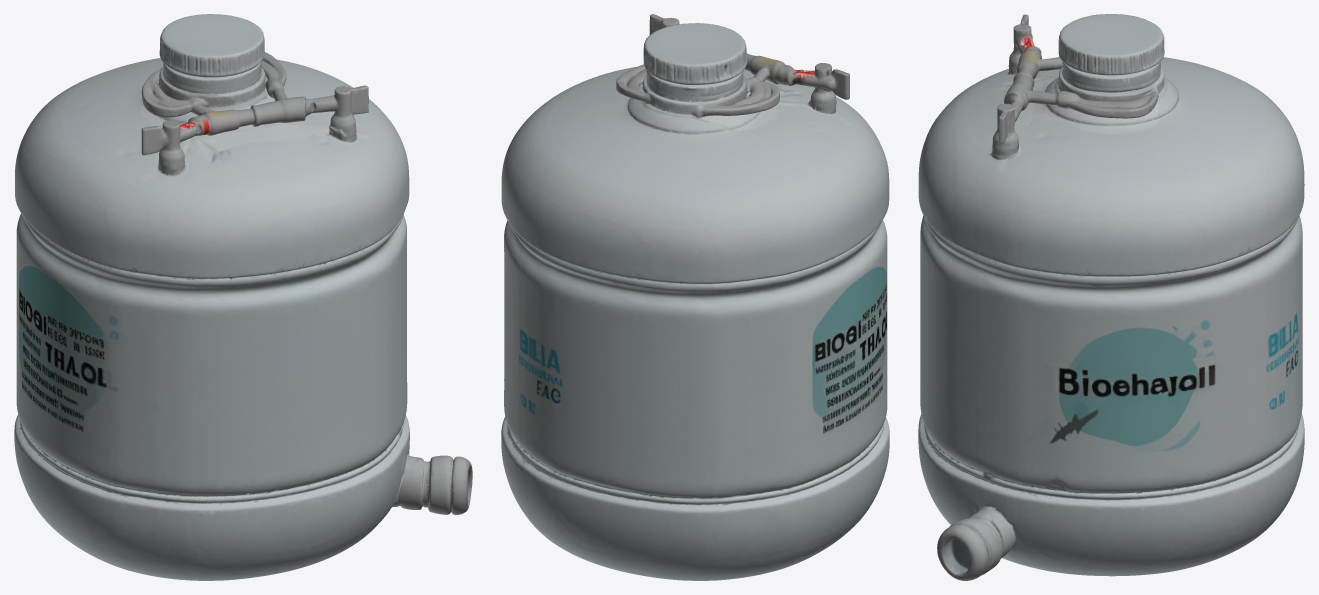
The model's file is bioetanol-opt.glb.
The picture shows the model from 3 angles, left to right: view 1: azimuth 30°, elevation 25°; view 2: azimuth 150°, elevation 25°; view 3: azimuth 270°, elevation 25°; orthographic projection.
Visible parts, largest first — view 1: tripo_node_3f9ac5d7-cd8d-45e7-b960-e6c32aa64348; view 2: tripo_node_3f9ac5d7-cd8d-45e7-b960-e6c32aa64348; view 3: tripo_node_3f9ac5d7-cd8d-45e7-b960-e6c32aa64348.
Boxes of the visible parts, x1,y1,x2,y2 form: tripo_node_3f9ac5d7-cd8d-45e7-b960-e6c32aa64348: [14, 14, 472, 580]; tripo_node_3f9ac5d7-cd8d-45e7-b960-e6c32aa64348: [501, 14, 889, 580]; tripo_node_3f9ac5d7-cd8d-45e7-b960-e6c32aa64348: [918, 14, 1304, 580].
Bounding box in the file's own units: 0.7476 × 1 × 0.6986.
Materials: 1 (1 with a texture image).
